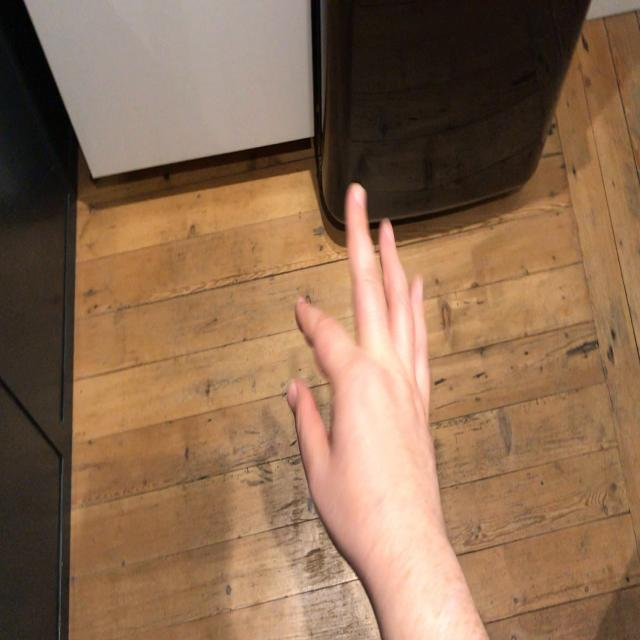no-gloves: (286, 181, 442, 564)
